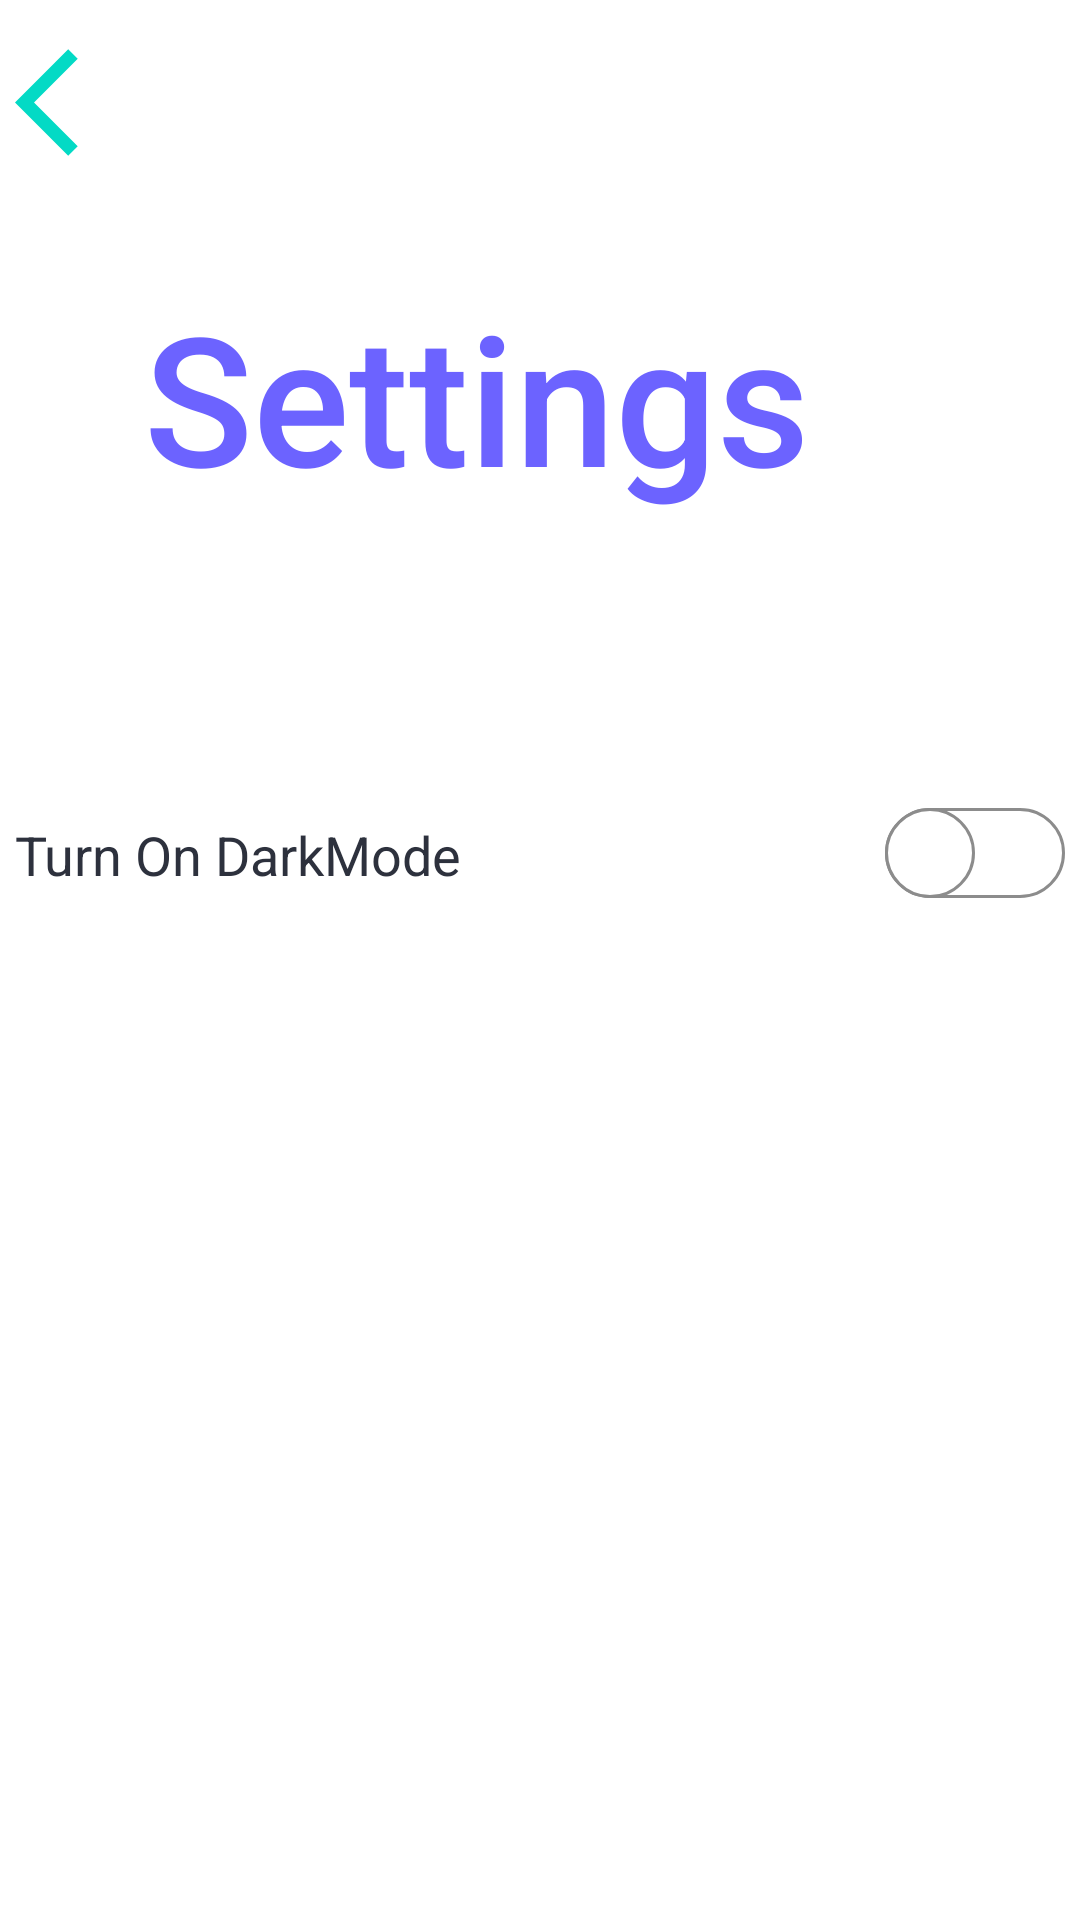

Named icons in this screenshot (1080px x 1920px) and their bounding boxes, (x1, y1, x2, y2):
back: (15, 49, 78, 156)
